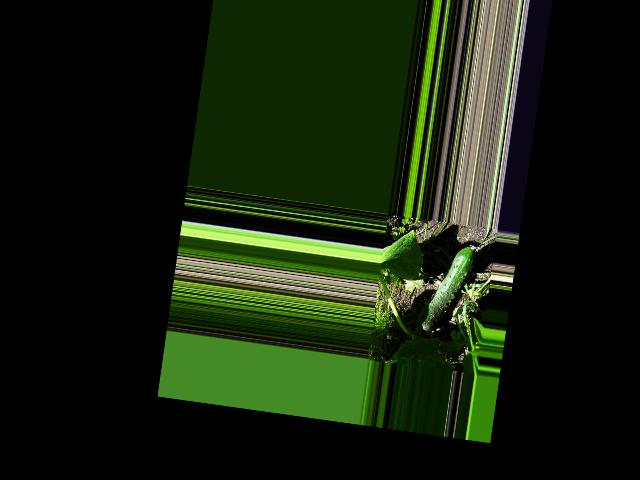cucumber: (414, 239, 477, 338)
